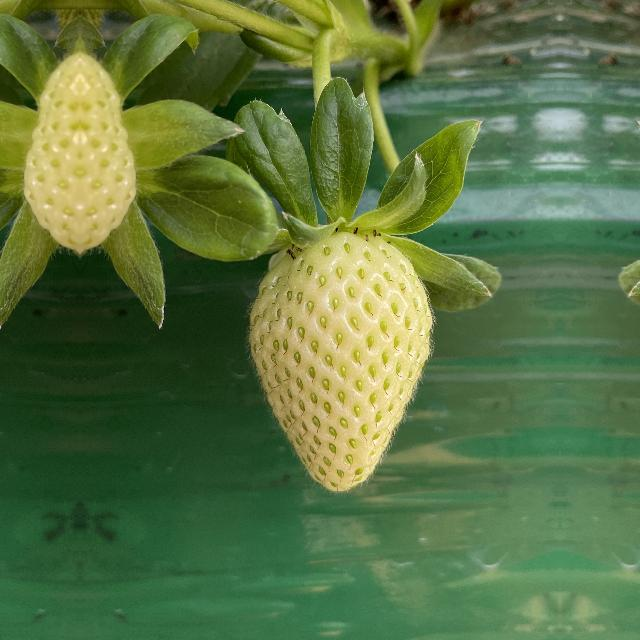Health_25: (240, 216, 440, 497)
